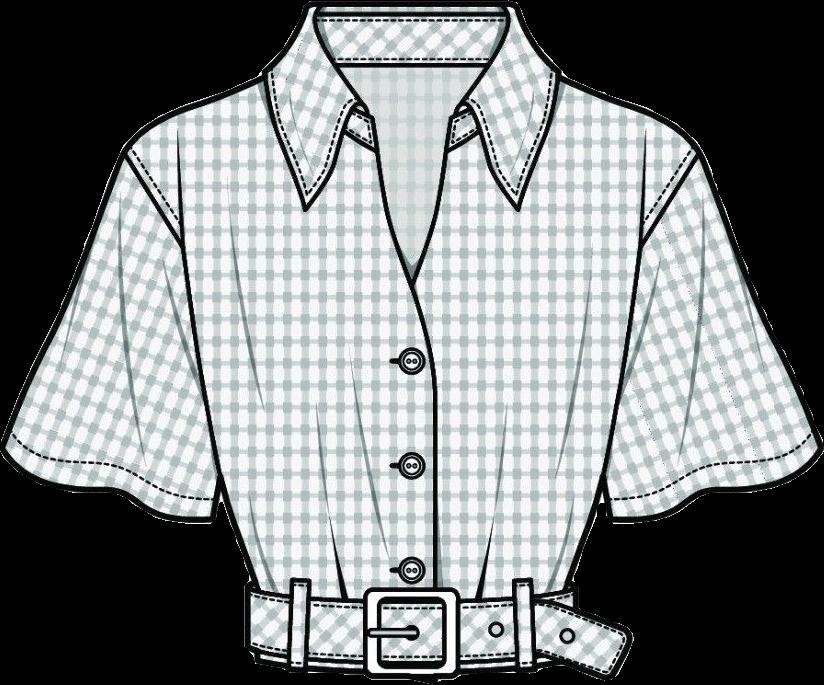Bodice: (118, 1, 702, 684)
Neckline: (310, 0, 513, 291)
Sleeve: (601, 150, 823, 523), (0, 149, 221, 523)
Sleeveline: (596, 145, 705, 486), (120, 146, 226, 483)
Waistline: (248, 623, 640, 680)
